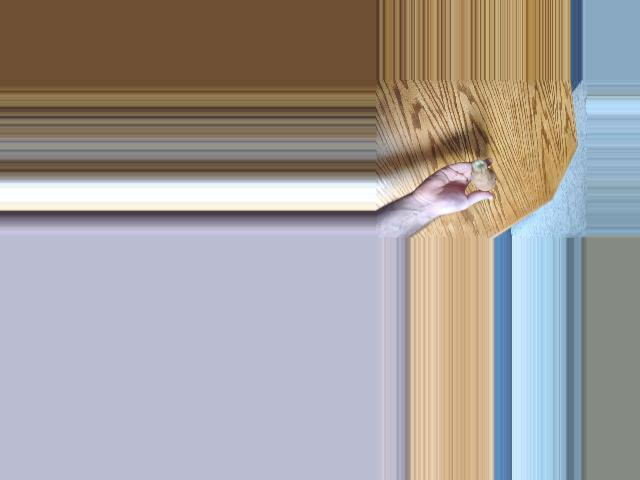sweet_potato: (471, 159, 506, 195)
